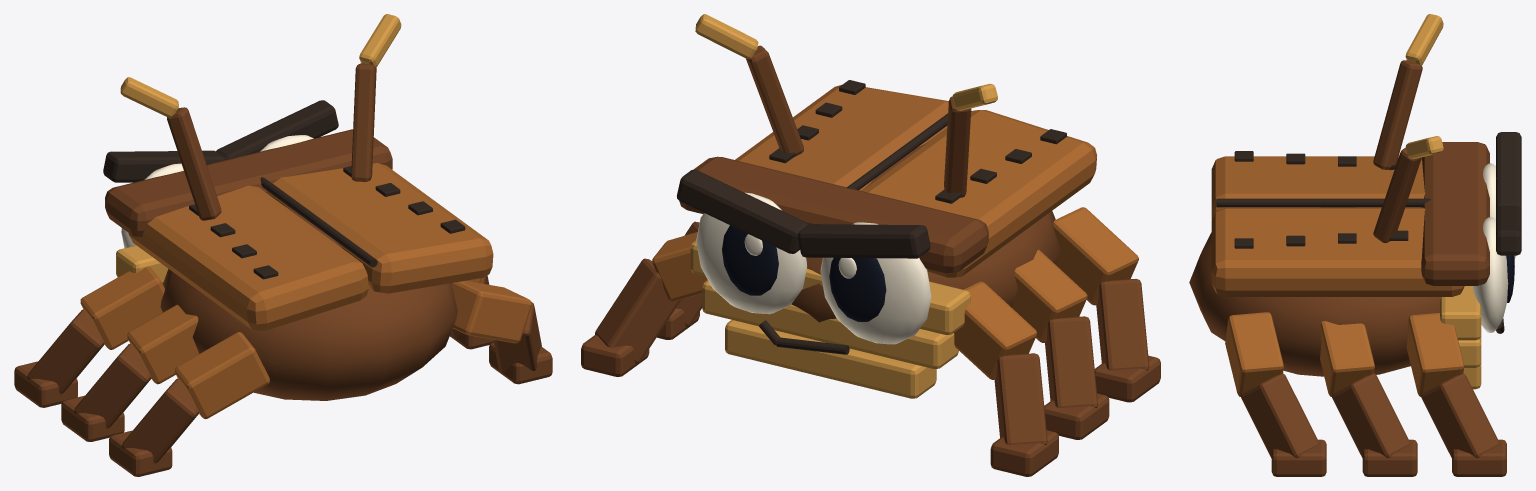
The model's file is StinkBugV2.fbx.
3 renders of one model, left to right at view 1: azimuth 30°, elevation 25°; view 2: azimuth 150°, elevation 25°; view 3: azimuth 270°, elevation 25°, orthographic. The views are drawn at different scales.
Visible parts, largest first — view 1: BugBody, LegL3, LegL1, LegL2, LegR3, LegR2; view 2: BugBody, LegL3, LegL1, LegL2, LegR1, LegR2; view 3: BugBody, LegR3, LegR1, LegR2.
Part boxes in pixels (left/top/right/bottom): BugBody: left=103, top=14, right=493, bottom=400; LegL3: left=109, top=332, right=269, bottom=476; LegL1: left=14, top=266, right=164, bottom=407; LegL2: left=61, top=304, right=199, bottom=441; LegR3: left=451, top=280, right=552, bottom=384; LegR2: left=450, top=275, right=493, bottom=349; BugBody: left=677, top=14, right=1097, bottom=398; LegL3: left=1052, top=207, right=1160, bottom=402; LegL1: left=954, top=281, right=1058, bottom=476; LegL2: left=1012, top=249, right=1109, bottom=439; LegR1: left=581, top=232, right=707, bottom=376; LegR2: left=657, top=221, right=702, bottom=339; BugBody: left=1189, top=14, right=1521, bottom=389; LegR3: left=1225, top=312, right=1326, bottom=476; LegR1: left=1406, top=313, right=1506, bottom=476; LegR2: left=1320, top=321, right=1417, bottom=476.
Bounding box in the file's own units: 2.69 × 1.96 × 1.94.
1 material, 1 textured.
